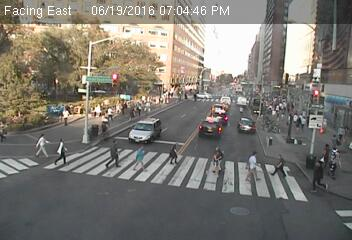neg: (242, 31, 268, 66), (311, 208, 333, 237), (33, 179, 54, 207), (78, 194, 99, 222), (182, 189, 203, 217), (62, 57, 82, 83), (144, 195, 163, 220), (146, 55, 164, 80), (35, 46, 53, 70), (34, 86, 52, 110), (75, 103, 93, 127), (199, 34, 216, 57), (208, 76, 225, 98), (113, 188, 130, 210), (219, 203, 235, 225), (133, 86, 149, 107), (238, 202, 254, 223), (293, 105, 307, 124), (110, 69, 124, 88), (198, 80, 211, 98), (273, 203, 286, 220), (286, 79, 298, 95), (303, 40, 315, 56), (117, 35, 129, 51), (265, 94, 276, 110), (241, 74, 252, 90), (269, 127, 279, 141), (86, 36, 96, 50)
pos: (304, 158, 333, 197), (100, 133, 126, 167), (32, 129, 55, 160), (243, 149, 266, 180), (132, 142, 154, 171), (54, 139, 74, 165), (164, 140, 183, 165), (211, 146, 229, 171), (273, 151, 291, 176)
